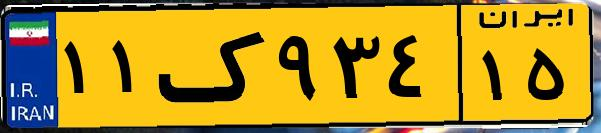1: (57, 26, 110, 100), (475, 38, 525, 113), (110, 28, 158, 98)
3: (330, 28, 385, 110)
4: (385, 28, 445, 110)
5: (525, 38, 570, 115)
9: (270, 28, 330, 110)
ک: (158, 12, 270, 120)
